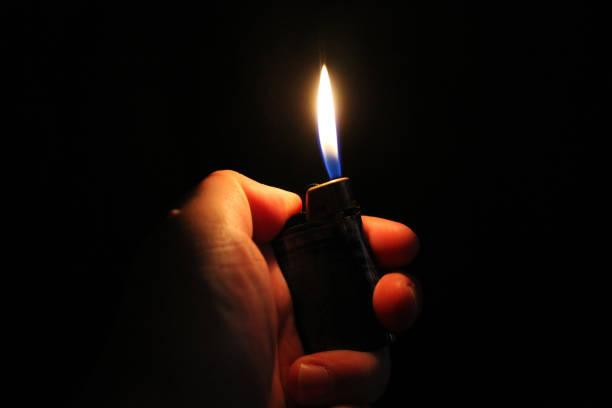Fire: (314, 59, 340, 178)
